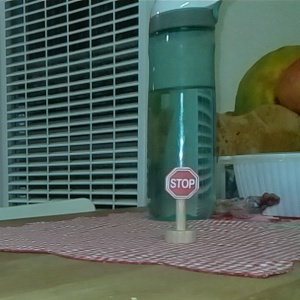stop sign: (161, 163, 201, 245)
